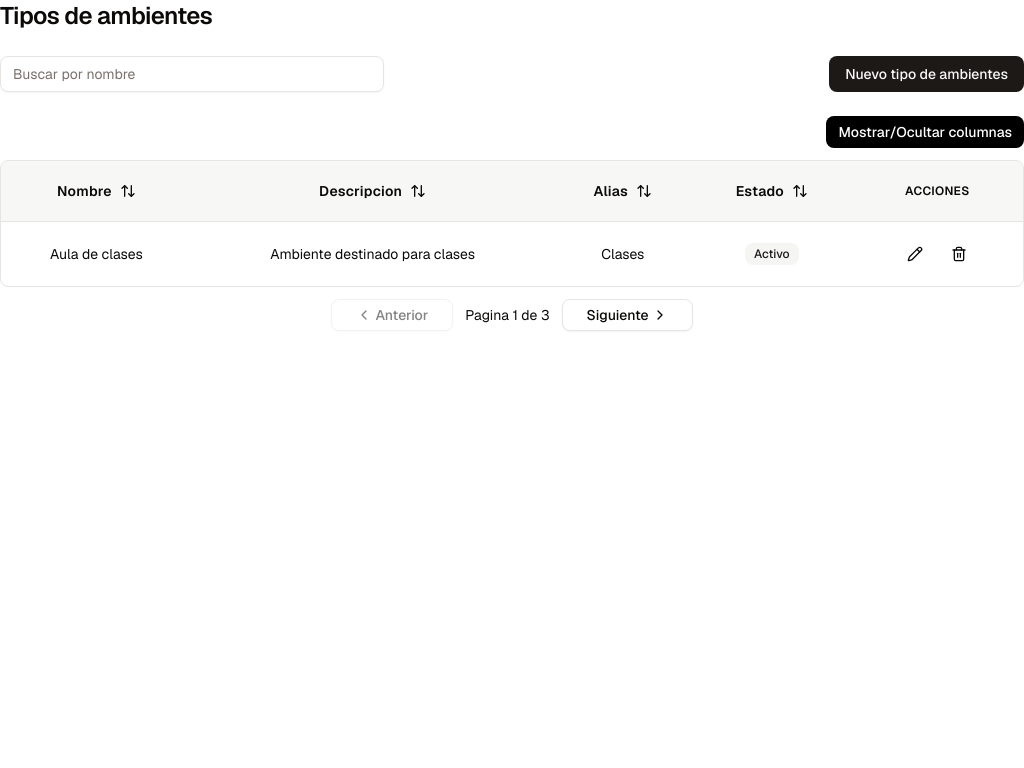
Test case: EnvironmentTypeListPage › abre el modal de edicion y precarga los datos del tipo seleccionado
Check: the text "Aula de clases" is shown, box [50,245,143,263]
Note: Hacemos clic en el boton de editar asociado a la fila.
Click the button named "editar tipo de ambiente" at (915, 254), box [897,236,933,272]
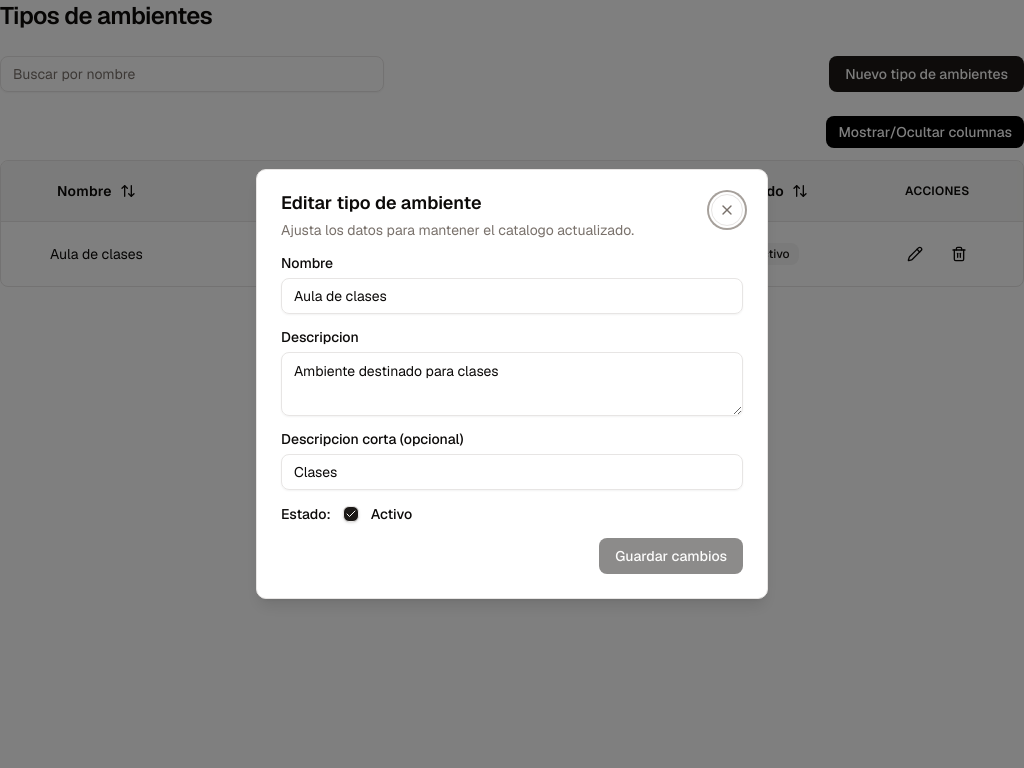
Check: the heading "Editar tipo de ambiente" is shown, box [281,191,482,214]
Check: the field showing "Aula de clases" is shown, box [281,278,743,314]
Check: the text box showing "Ambiente destinado para clases" is shown, box [281,352,743,416]
